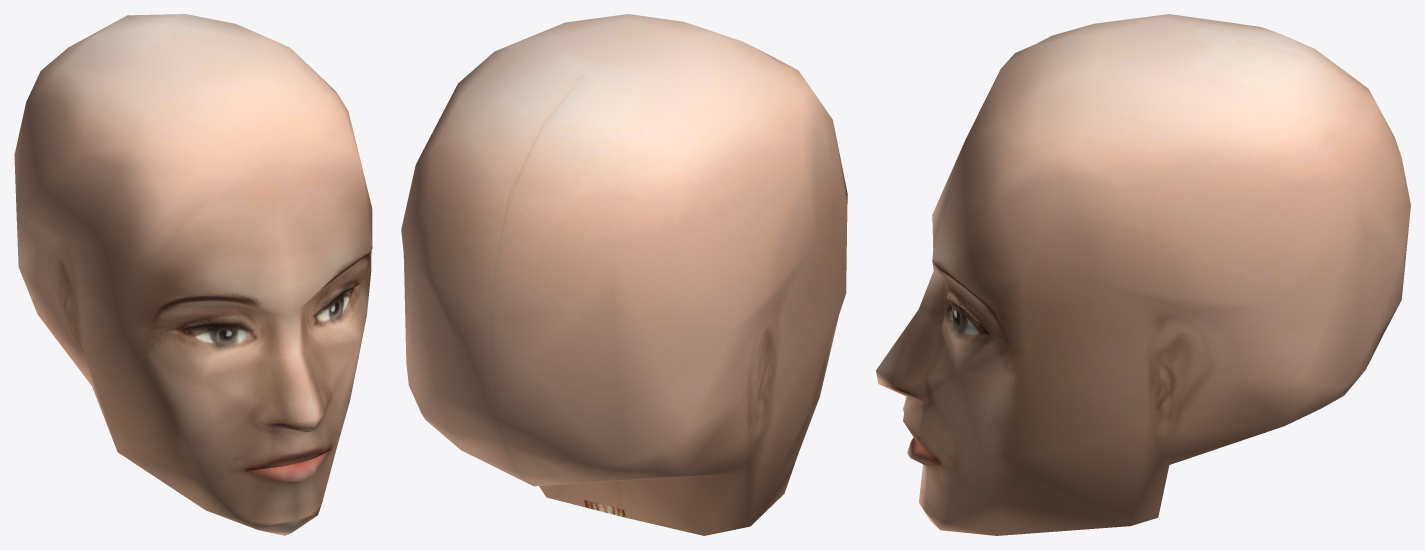
The model's file is b_n_breton_f_head_04.glb.
3 views of the same model, side by side, from view 1: azimuth 30°, elevation 25°; view 2: azimuth 150°, elevation 25°; view 3: azimuth 270°, elevation 25° (orthographic). The views are drawn at different scales.
Visible parts, largest first — view 1: Tri B_N_Breton_F_Head_04; view 2: Tri B_N_Breton_F_Head_04; view 3: Tri B_N_Breton_F_Head_04.
Boxes of the visible parts, left/top/right/bottom form: Tri B_N_Breton_F_Head_04: left=14, top=14, right=372, bottom=535; Tri B_N_Breton_F_Head_04: left=401, top=14, right=847, bottom=535; Tri B_N_Breton_F_Head_04: left=876, top=14, right=1410, bottom=535.
Bounding box in the file's own units: 0.1001 × 0.1532 × 0.1519.
Materials: 1 (1 with a texture image).
